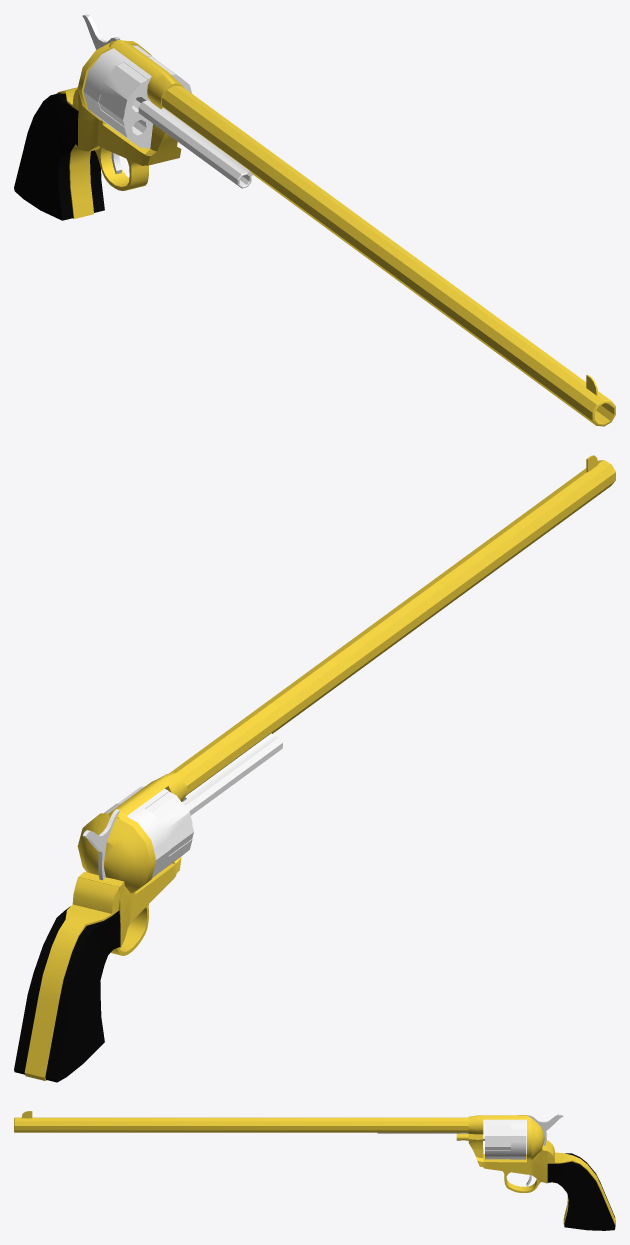
File: LP Maximun.fbx
3 renders of one model, top to bottom at view 1: azimuth 30°, elevation 25°; view 2: azimuth 150°, elevation 25°; view 3: azimuth 270°, elevation 25°, orthographic. The views are drawn at different scales.
Parts seen in each view (by area): view 1: LP Maximun, Circle; view 2: LP Maximun, Circle; view 3: LP Maximun, Circle, Cube.002.
Part boxes in pixels (<box>): LP Maximun: <box>14,39,615,426</box>; Circle: <box>83,45,192,148</box>; LP Maximun: <box>14,455,615,1082</box>; Circle: <box>104,786,193,878</box>; LP Maximun: <box>14,1111,615,1230</box>; Circle: <box>483,1119,526,1159</box>; Cube.002: <box>527,1114,563,1145</box>.
Bounding box in the file's own units: 61.62 × 171 × 813.
